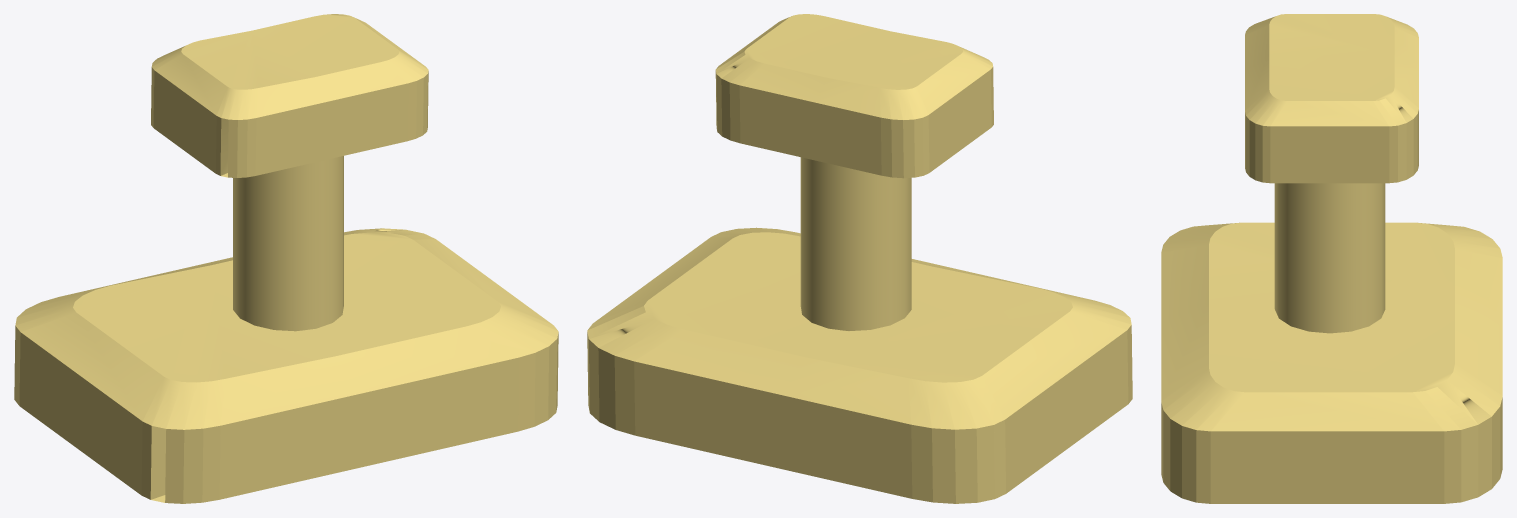
File: stamp2.fbx
3 views of the same model, side by side, from view 1: azimuth 30°, elevation 25°; view 2: azimuth 150°, elevation 25°; view 3: azimuth 270°, elevation 25° (orthographic).
Visible parts, largest first — view 1: Cube_1, Cube, Cylinder; view 2: Cube_1, Cube, Cylinder; view 3: Cube_1, Cube, Cylinder.
Part boxes in pixels (x1,y1,x2,y2): Cube_1: (14, 228, 558, 503); Cube: (151, 14, 428, 177); Cylinder: (233, 156, 343, 331); Cube_1: (587, 227, 1132, 503); Cube: (715, 14, 993, 178); Cylinder: (800, 157, 911, 330); Cube_1: (1161, 222, 1502, 503); Cube: (1245, 14, 1418, 183); Cylinder: (1274, 183, 1385, 333).
Size of the model in its own units: 277 by 227 by 200.
